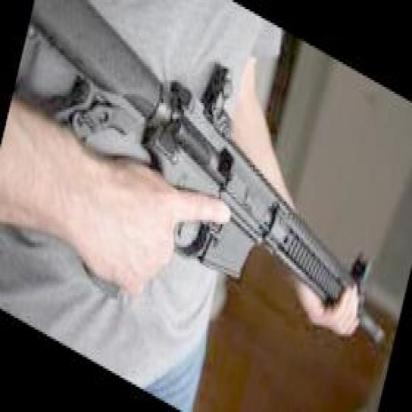Gun: (0, 0, 412, 380)
